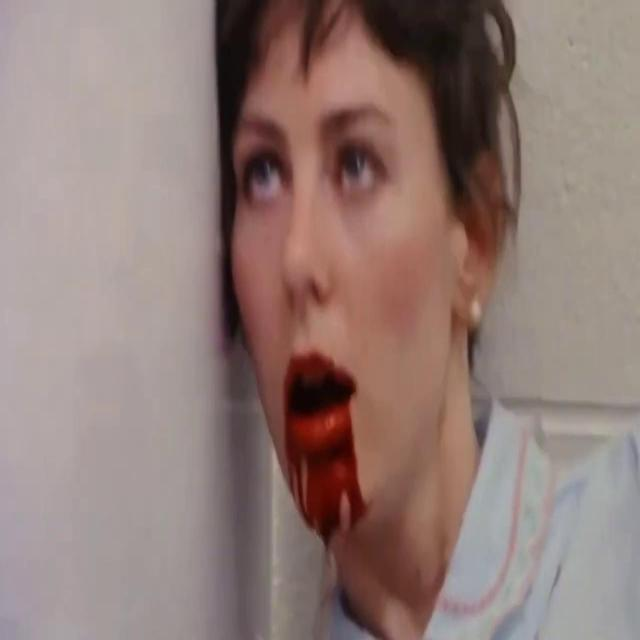flood: (288, 423, 366, 538)
